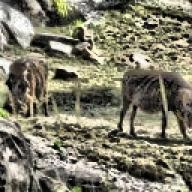boar: (115, 67, 192, 140)
